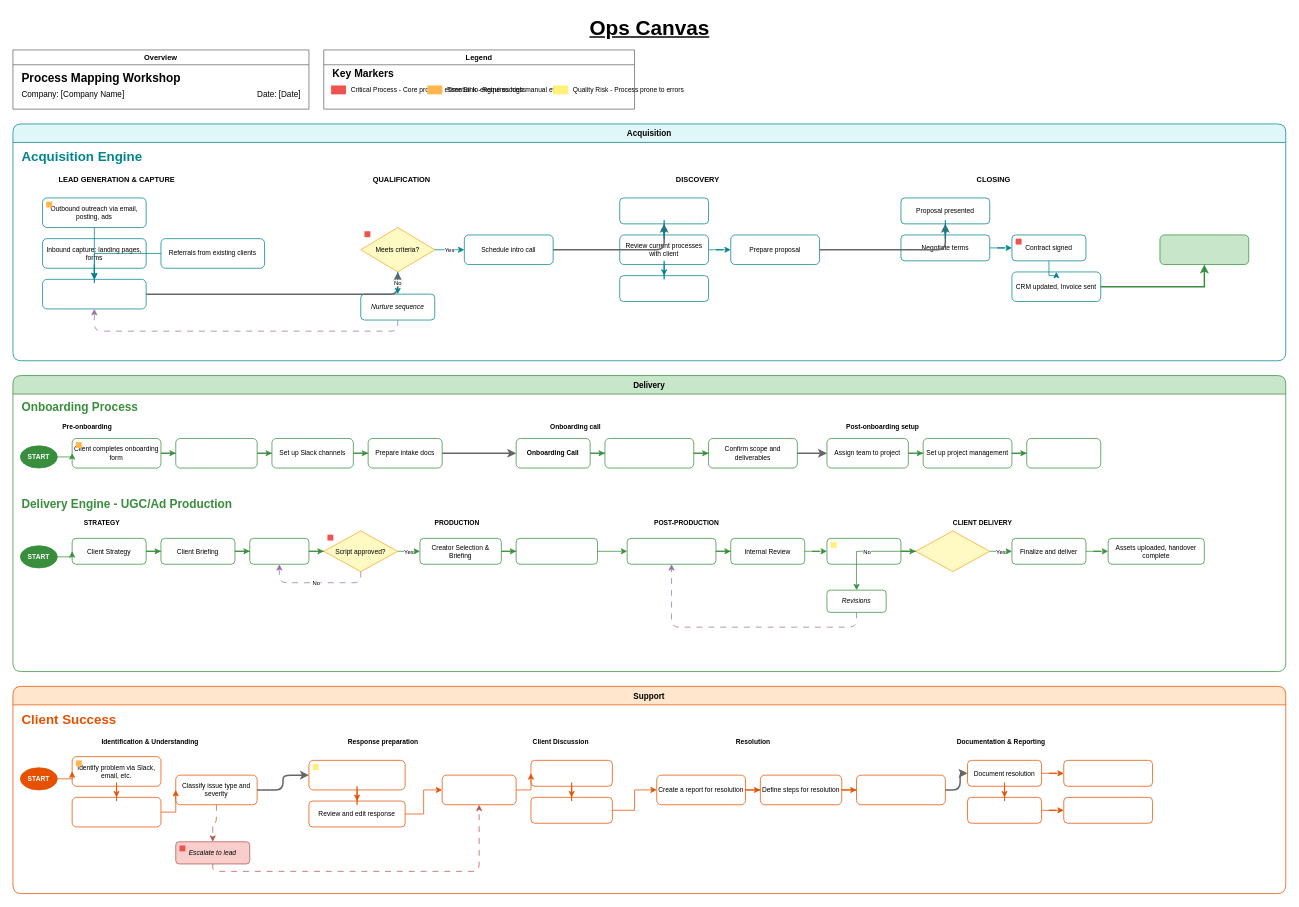
Some shapes in this 1299 by 907 pixel diagram are drawn without their labels. Each missing label, with the centre of its shape:
Client approves?: the point at 952,551
Client Review: the point at 863,551
Content Production: the point at 556,551
Create Tracker ticket if longer issue: the point at 1108,773
Discovery Call: the point at 664,210
Discuss and align: the point at 571,810
Follow-up with the client after resolution: the point at 900,789
Gather context and details at the issue: the point at 116,812
Handoff to Delivery: the point at 1204,249
Identify pain points: the point at 664,288
Lead captured in CRM: the point at 94,294
Post-Production & Editing: the point at 671,551
Review goals and expectations: the point at 649,453
Schedule a call if needed: the point at 571,773
Schedule kickoff: the point at 1063,453
Scripting: the point at 279,551
Send via Slack or email: the point at 478,789
Share invoice and contract: the point at 216,453
Update CRM with notes: the point at 1004,810
Update project documentation: the point at 1108,810
Use ChatGPT to generate draft response: the point at 356,775
